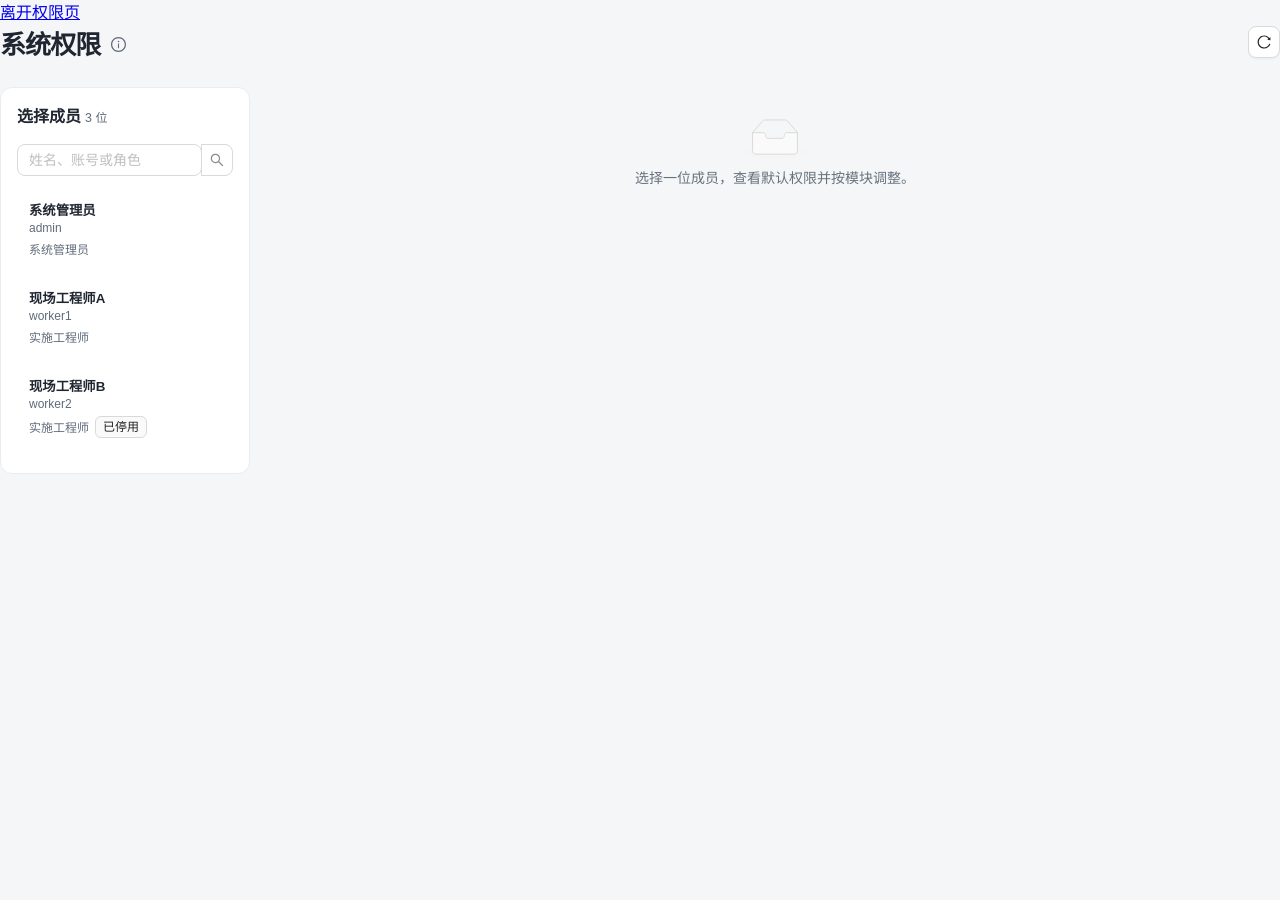
Test case: switches members only after explicit discard and does not persist abandoned edits
Click the button with aria-label "选择成员：现场工程师A" at x=125, y=316, box [17,276,233,357]
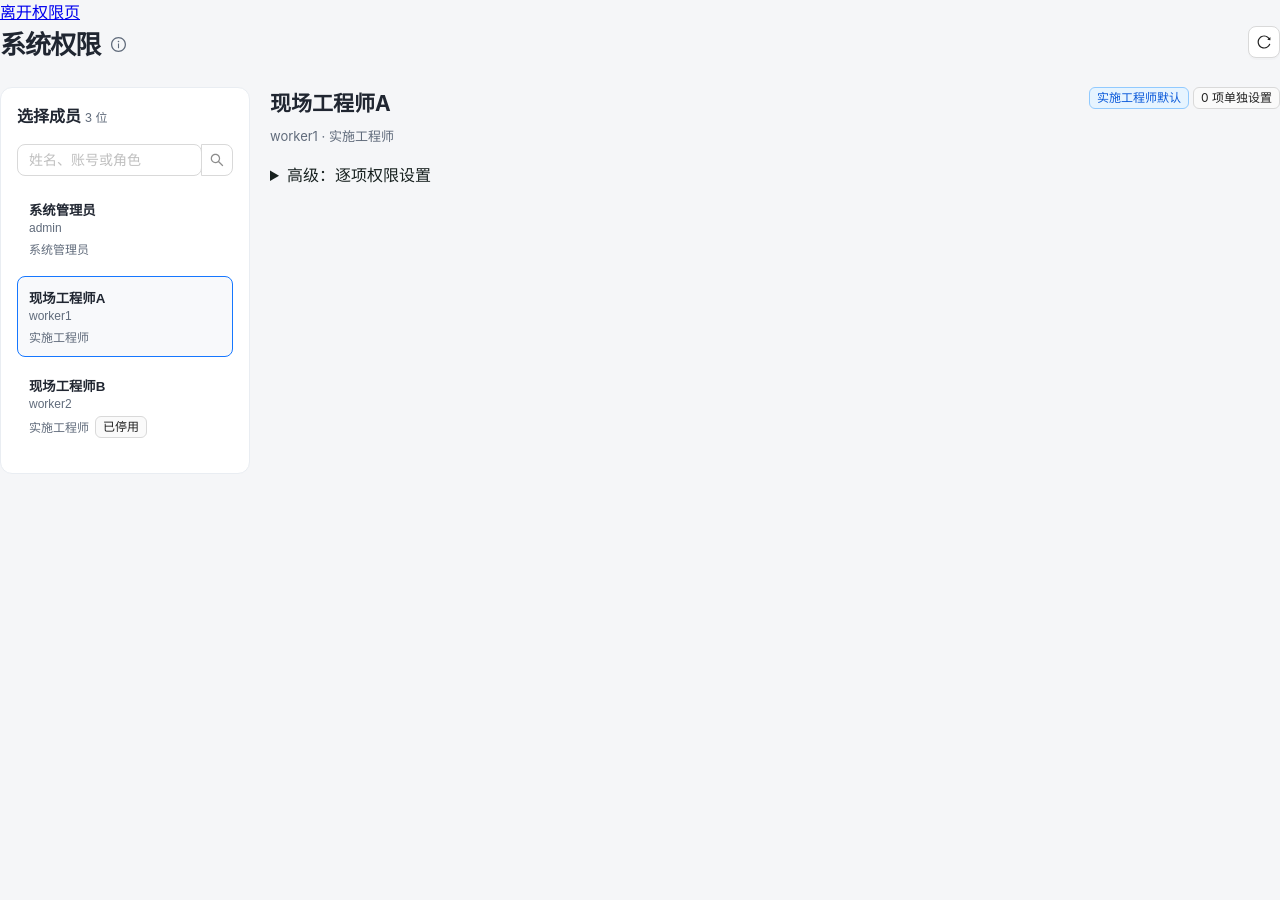
Now the heading "现场工程师A" is shown, box [270,87,394,121]
Click the heading "高级：逐项权限设置" at x=359, y=175, box [287,165,431,185]
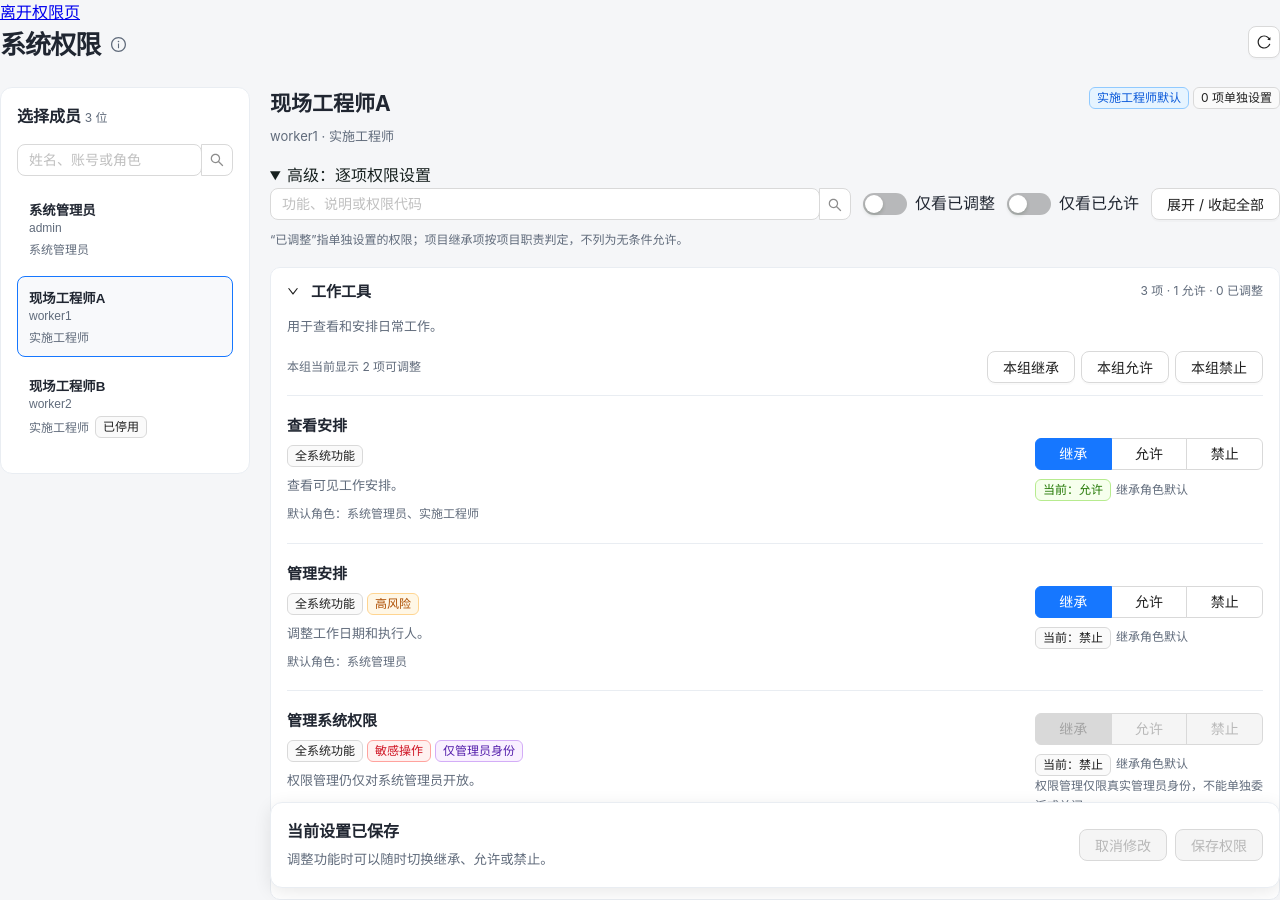
Click the radio button labelled "允许" in the row of "高风险" at x=1149, y=602, box [1111,586,1187,618]
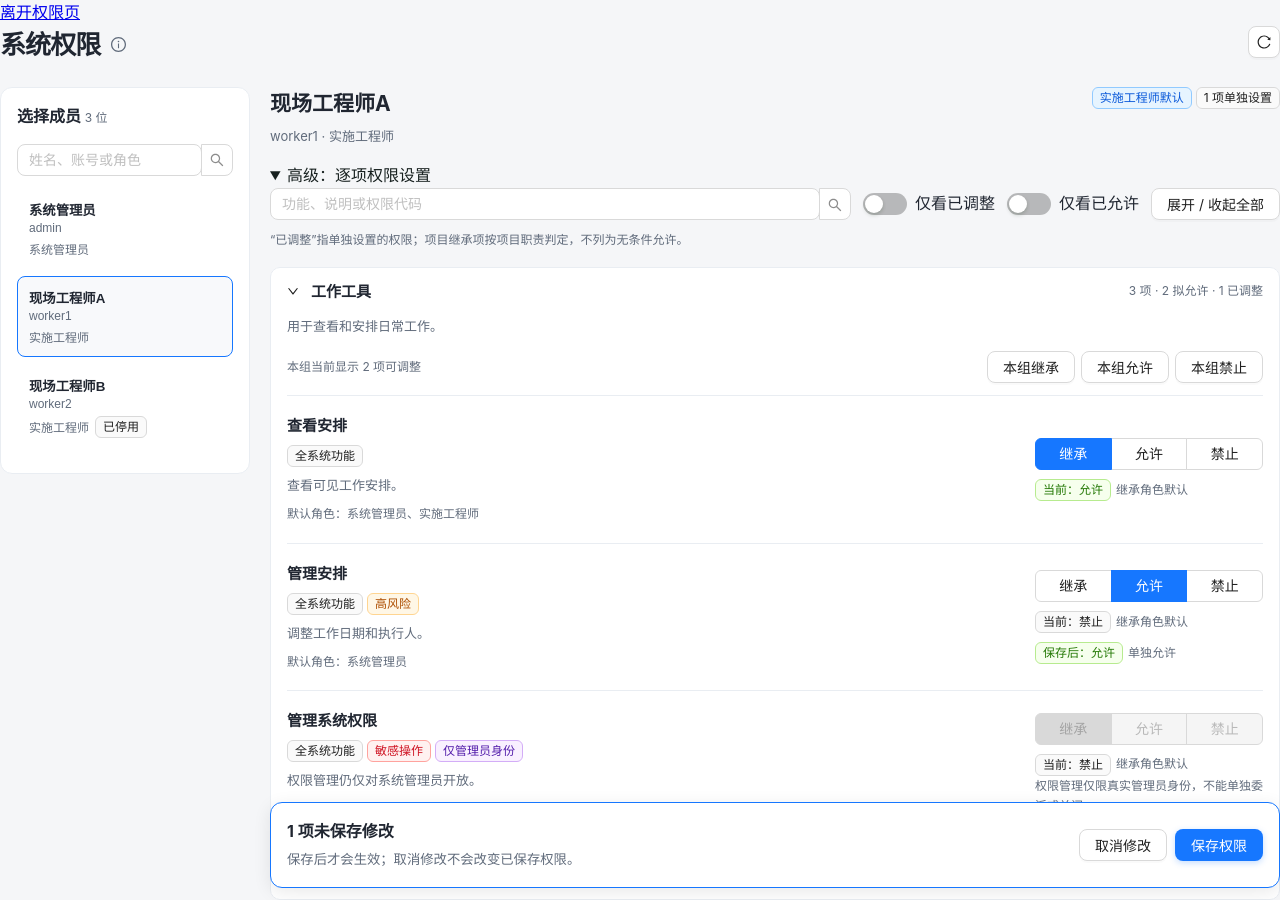
Click the button with aria-label "选择成员：现场工程师B" at x=125, y=407, box [17,364,233,450]
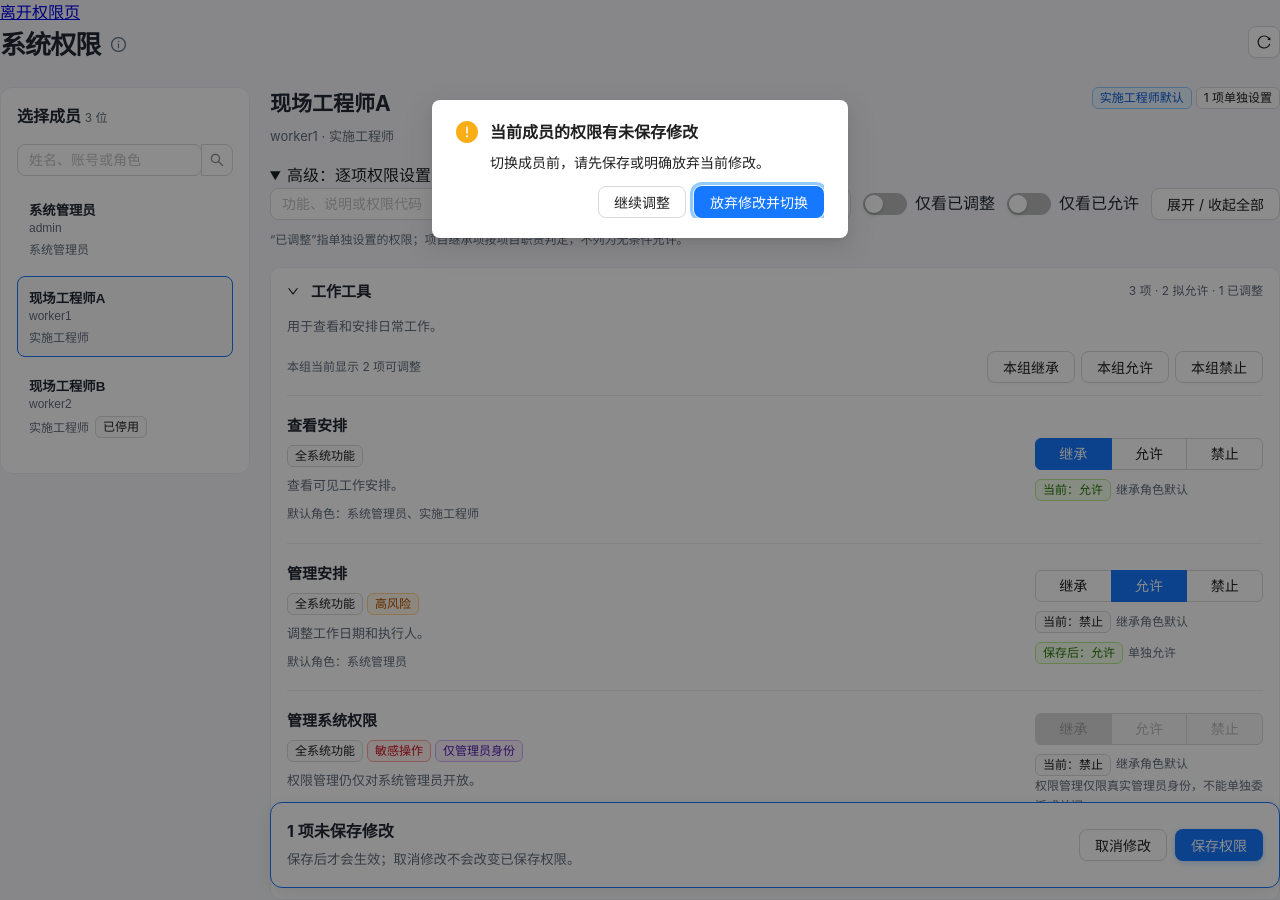
Click the button "放弃修改并切换" at x=759, y=202, box [694,186,824,218]
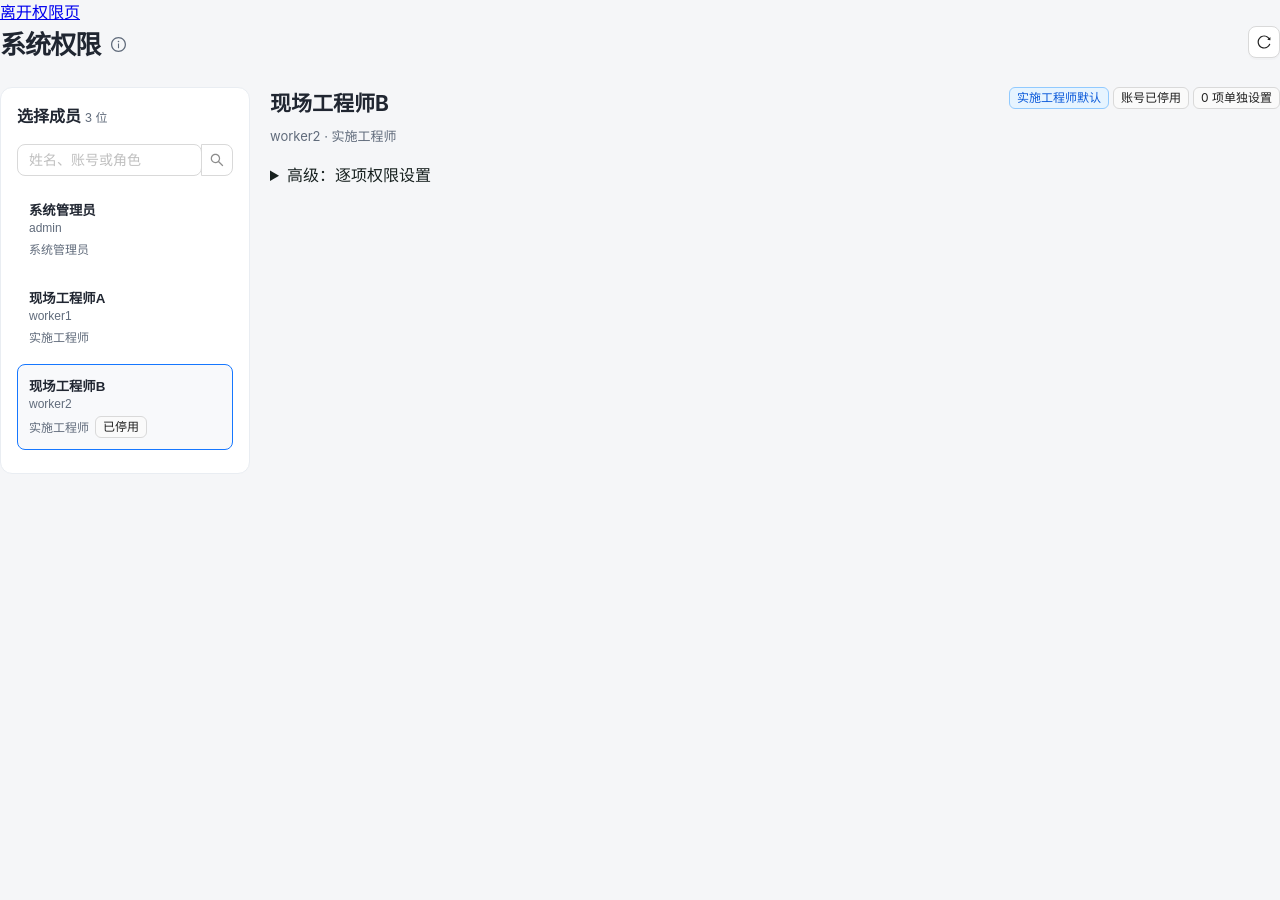
Now the heading "现场工程师B" is shown, box [270,87,397,121]
